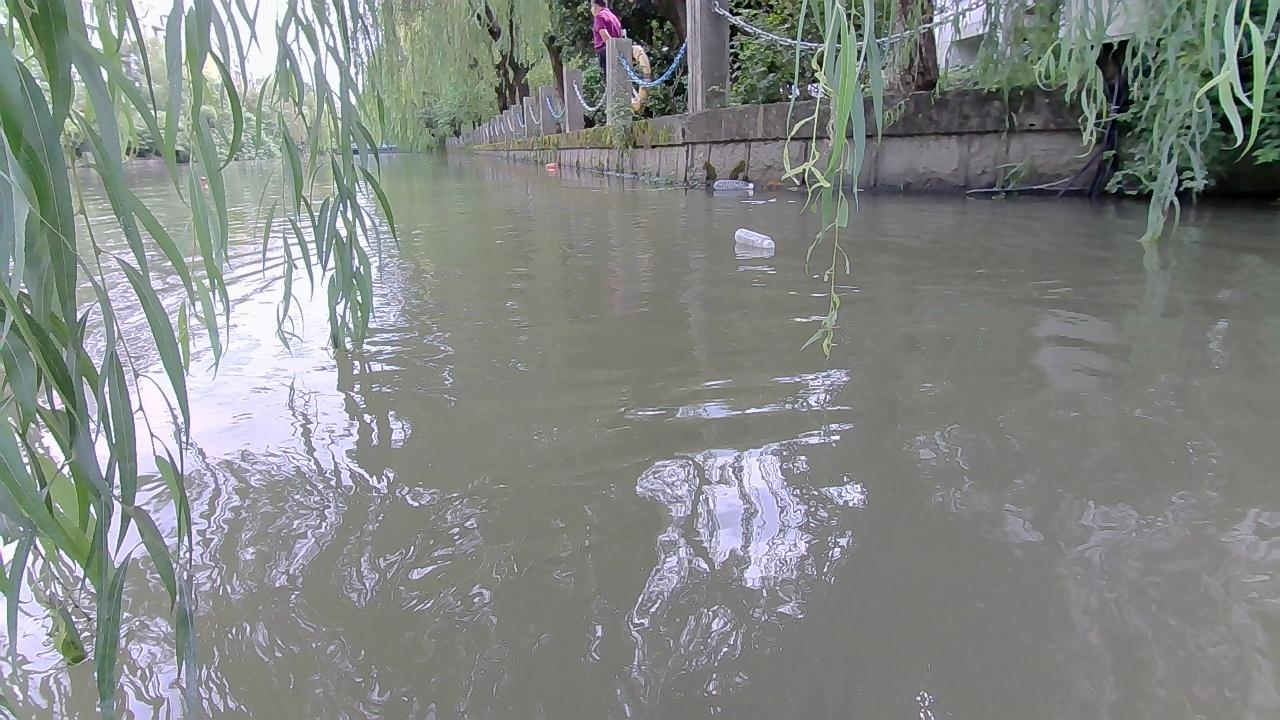bottle: (731, 224, 782, 252), (706, 173, 760, 193), (541, 158, 559, 177), (196, 170, 211, 187)
